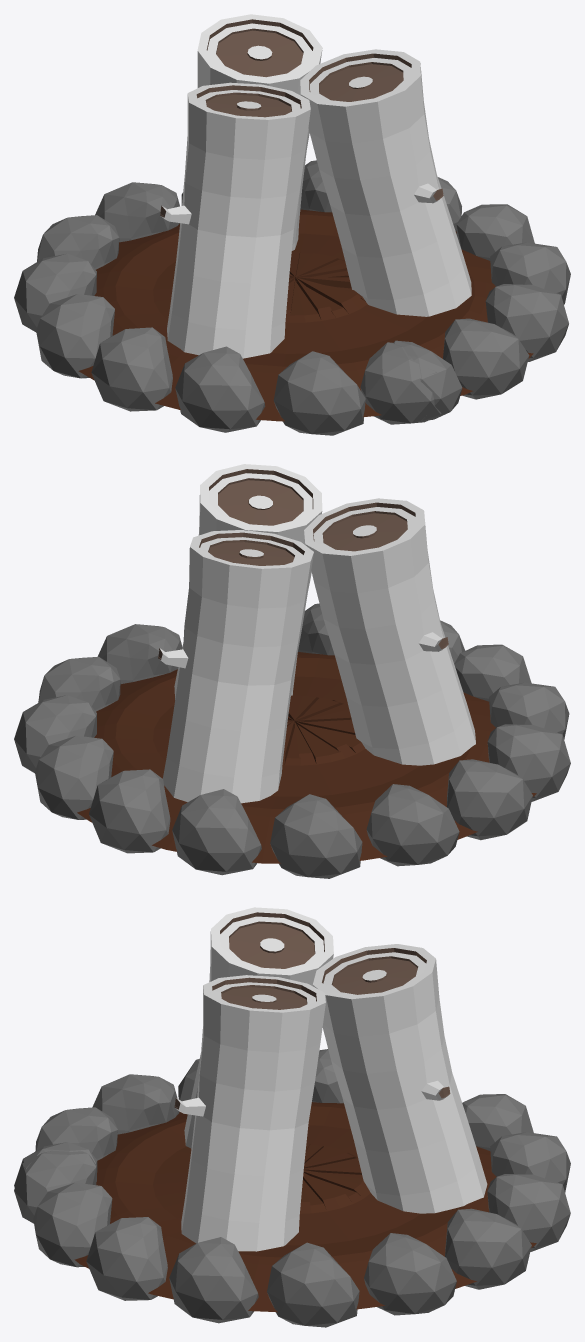
File: Fogata.fbx
The picture shows the model from 3 angles, top to bottom: view 1: azimuth 30°, elevation 25°; view 2: azimuth 150°, elevation 25°; view 3: azimuth 270°, elevation 25°; orthographic projection.
Visible parts, largest first — view 1: Fogata2, Fogata3, Fogata1; view 2: Fogata2, Fogata3, Fogata1; view 3: Fogata2, Fogata3, Fogata1.
Part boxes in pixels (left/top/right/bottom): Fogata2: left=160, top=14, right=471, bottom=358; Fogata3: left=14, top=160, right=570, bottom=435; Fogata1: left=78, top=209, right=533, bottom=421; Fogata2: left=158, top=464, right=475, bottom=803; Fogata3: left=14, top=603, right=570, bottom=878; Fogata1: left=77, top=652, right=536, bottom=863; Fogata2: left=174, top=907, right=487, bottom=1251; Fogata3: left=14, top=1049, right=570, bottom=1327; Fogata1: left=74, top=1102, right=536, bottom=1312.
Size of the model in its own units: 183 by 93.82 by 182.
